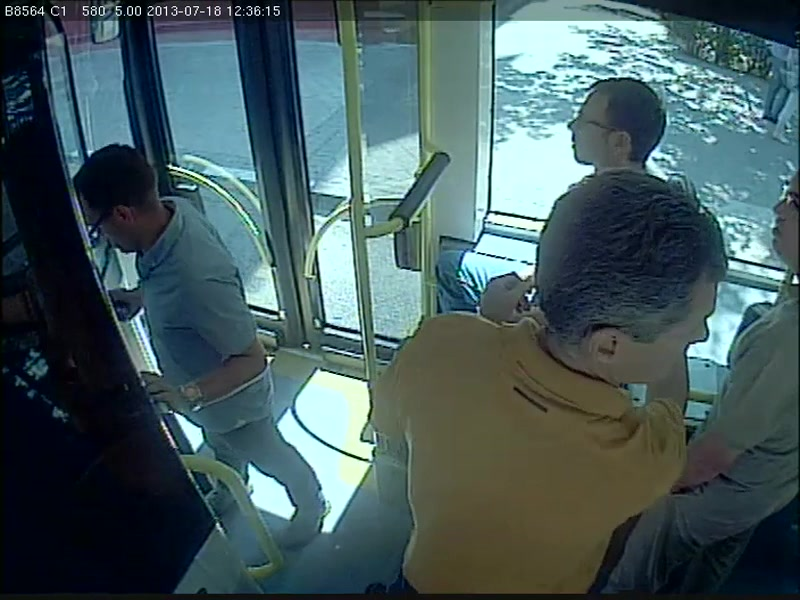Head: (531, 170, 729, 393), (63, 134, 177, 262), (565, 77, 663, 174), (772, 153, 800, 284)
